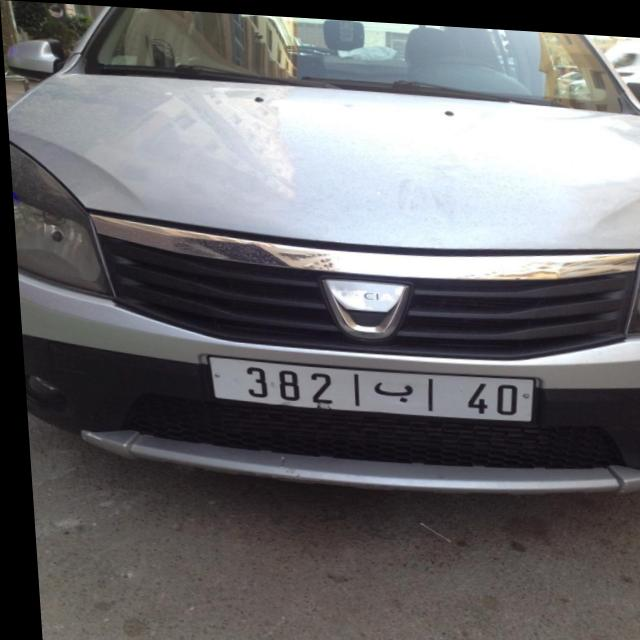License-Plate: (203, 354, 530, 415)
